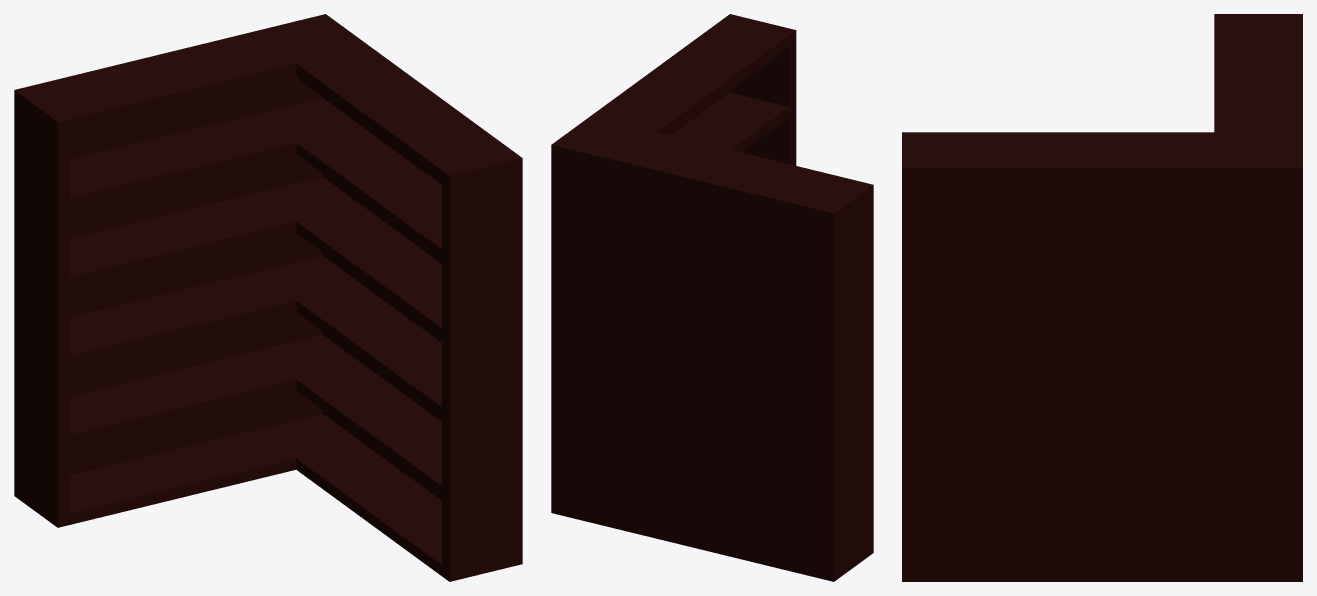
File: book case.fbx
3 views of the same model, side by side, from view 1: azimuth 30°, elevation 25°; view 2: azimuth 150°, elevation 25°; view 3: azimuth 270°, elevation 25° (orthographic). The views are drawn at different scales.
Parts seen in each view (by area): view 1: Cube.010; view 2: Cube.010; view 3: Cube.010.
Part boxes in pixels (x1,y1,x2,y2): Cube.010: (14,14,522,581); Cube.010: (551,14,873,581); Cube.010: (902,14,1302,581).
Bounding box in the file's own units: 578 × 720 × 633.
